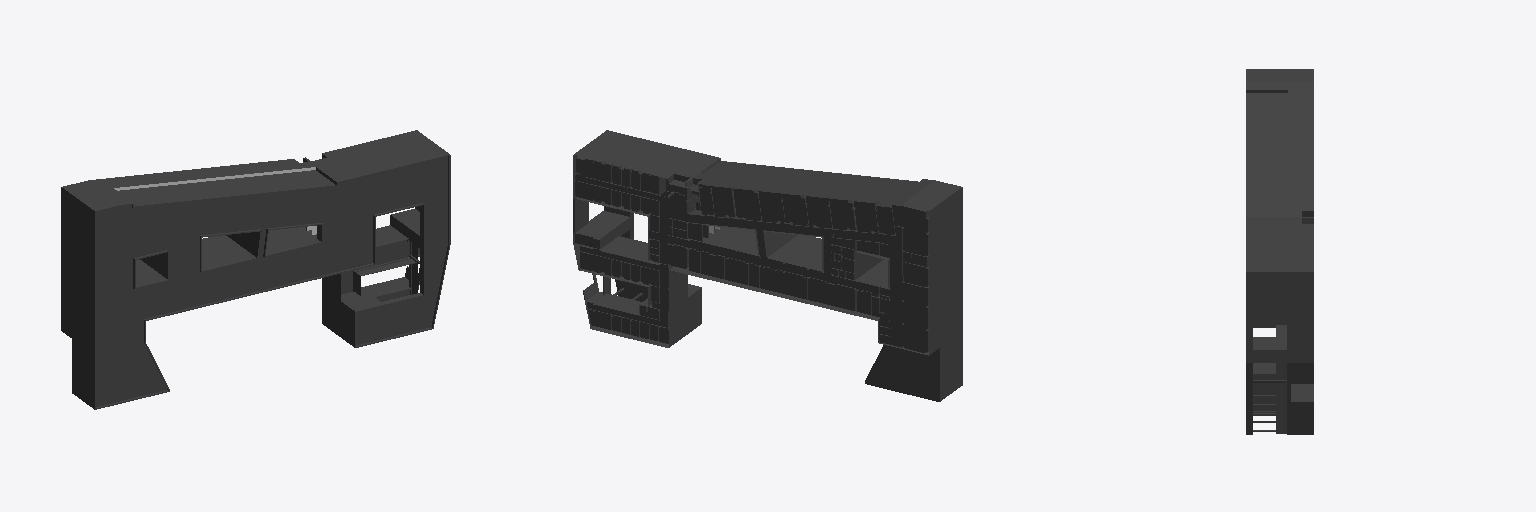
The model's file is ecnu.obj.
3 views of the same model, side by side, from view 1: azimuth 30°, elevation 25°; view 2: azimuth 150°, elevation 25°; view 3: azimuth 270°, elevation 25° (orthographic).
Visible parts, largest first — view 1: LT15, LT16, LT17, L307, L218, L502, L401, L104, L510, L319, L411, L304 (+13 smaller); view 2: L136, L214, L127, L105, L202, L218, L401, L502, L114, L104, L411, L510 (+11 smaller); view 3: L105, L202, L503, L218, L401, L502, L104, L403, LT03, L301, L304, LT07 (+1 smaller).
Part boxes in pixels (bbox=[...]): LT15: bbox=[96, 157, 447, 406]; LT16: bbox=[95, 155, 450, 409]; LT17: bbox=[96, 156, 448, 407]; L307: bbox=[341, 240, 419, 301]; L218: bbox=[107, 162, 313, 186]; L502: bbox=[129, 178, 330, 202]; L401: bbox=[122, 174, 325, 198]; L104: bbox=[102, 159, 303, 182]; L510: bbox=[85, 204, 90, 389]; L319: bbox=[73, 196, 78, 380]; L411: bbox=[79, 200, 84, 384]; L304: bbox=[118, 170, 319, 193]; L136: bbox=[575, 158, 927, 352]; L214: bbox=[865, 345, 937, 401]; L127: bbox=[575, 156, 928, 352]; L105: bbox=[573, 155, 905, 345]; L202: bbox=[580, 195, 940, 401]; L218: bbox=[694, 174, 900, 198]; L401: bbox=[705, 168, 908, 192]; L502: bbox=[712, 164, 913, 188]; L114: bbox=[703, 224, 823, 270]; L104: bbox=[689, 178, 894, 203]; L411: bbox=[946, 195, 951, 379]; L510: bbox=[952, 191, 957, 375]; L105: bbox=[1302, 82, 1313, 434]; L202: bbox=[1290, 82, 1301, 434]; L503: bbox=[1255, 82, 1266, 431]; L218: bbox=[1290, 90, 1301, 216]; L401: bbox=[1267, 93, 1278, 216]; L502: bbox=[1255, 93, 1266, 216]; L104: bbox=[1302, 90, 1313, 210]; L403: bbox=[1267, 82, 1278, 431]; LT03: bbox=[1246, 82, 1254, 434]; L301: bbox=[1279, 82, 1289, 434]; L304: bbox=[1279, 93, 1287, 216]; LT07: bbox=[1246, 93, 1254, 216].
Size of the model in its own units: 12.55 by 6.76 by 2.05.